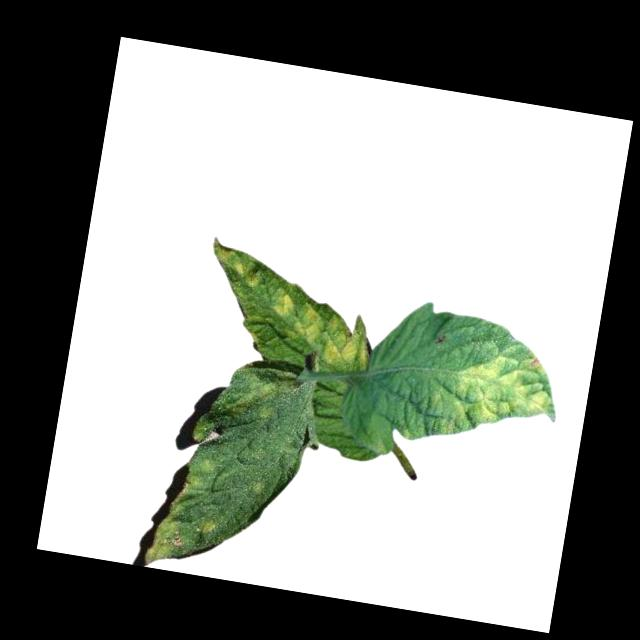Leaf_Mold: (428, 329, 569, 456), (140, 454, 227, 577), (263, 284, 378, 377), (206, 237, 269, 291)
